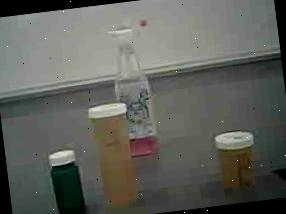Bottle A: (82, 100, 140, 208)
Bottle B: (212, 127, 266, 195)
Bottle C: (46, 146, 89, 214)
hazard: (104, 17, 170, 158)
